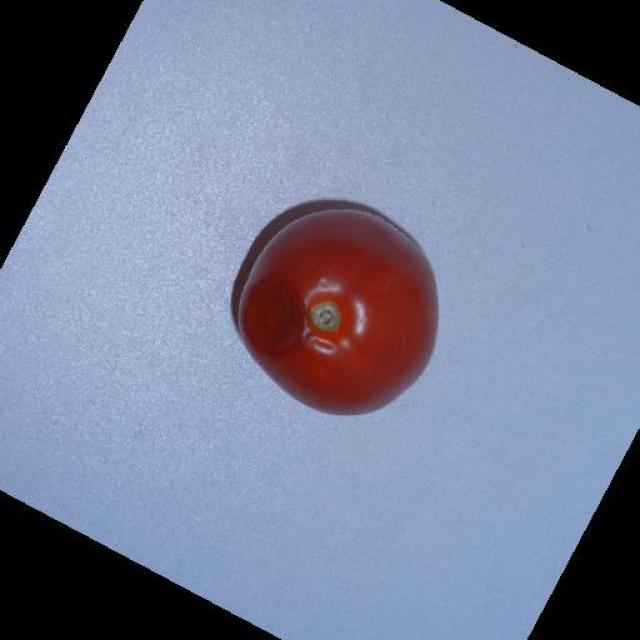Stale_tomato: (241, 195, 459, 418)
